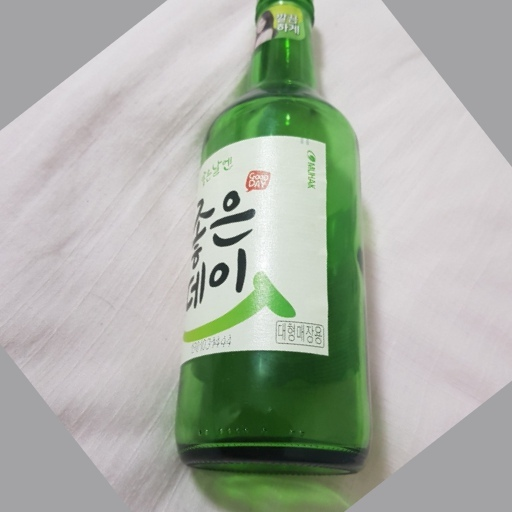Glass_0: (177, 1, 376, 479)
